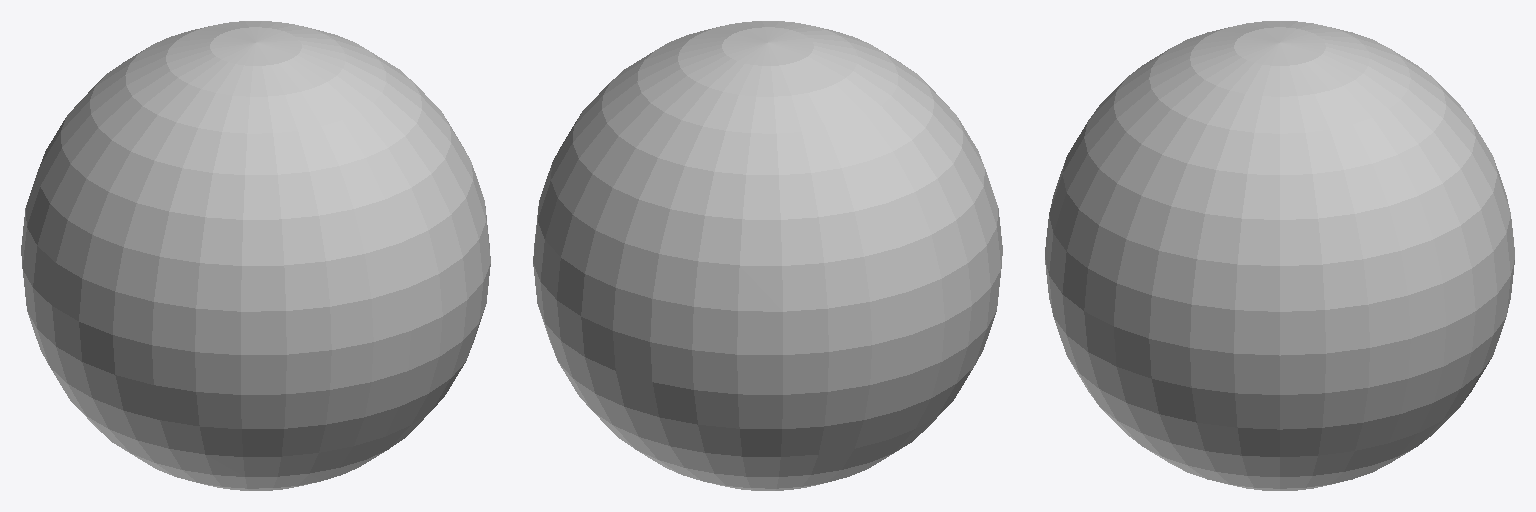
Rendered from StandardBall.obj.
The picture shows the model from 3 angles: view 1: azimuth 30°, elevation 25°; view 2: azimuth 150°, elevation 25°; view 3: azimuth 270°, elevation 25°; orthographic projection.
Visible parts, largest first — view 1: Sphere; view 2: Sphere; view 3: Sphere.
Boxes of the visible parts, x1=… form: Sphere: x1=21, y1=21, x2=490, y2=490; Sphere: x1=533, y1=21, x2=1002, y2=490; Sphere: x1=1045, y1=21, x2=1514, y2=490.
Size of the model in its own units: 0.0427 by 0.0427 by 0.0427.